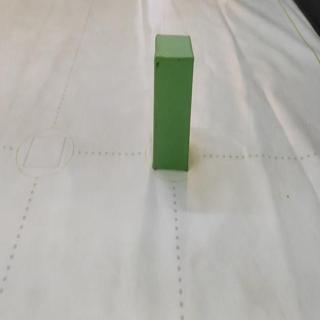greenbox: (151, 31, 197, 174)
